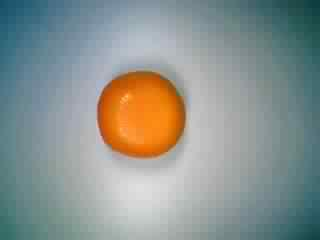orange: (94, 68, 187, 164)
